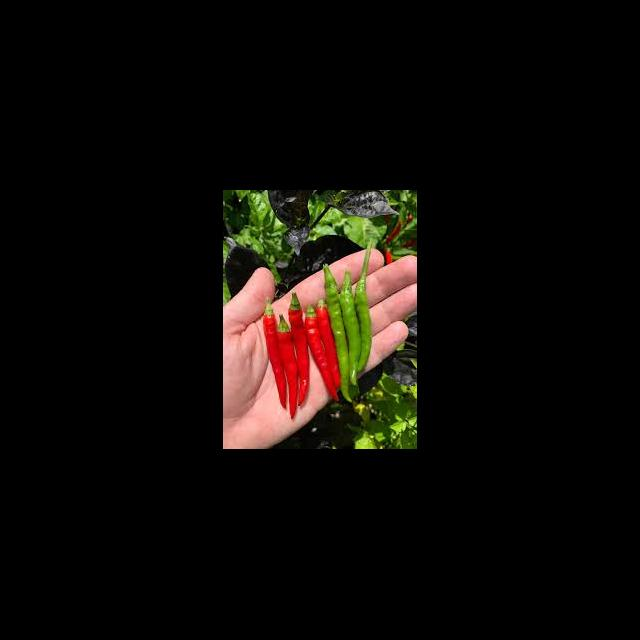chili_pepper: (223, 262, 277, 412), (310, 302, 342, 401), (340, 284, 361, 406), (278, 322, 301, 420), (355, 279, 366, 387)
